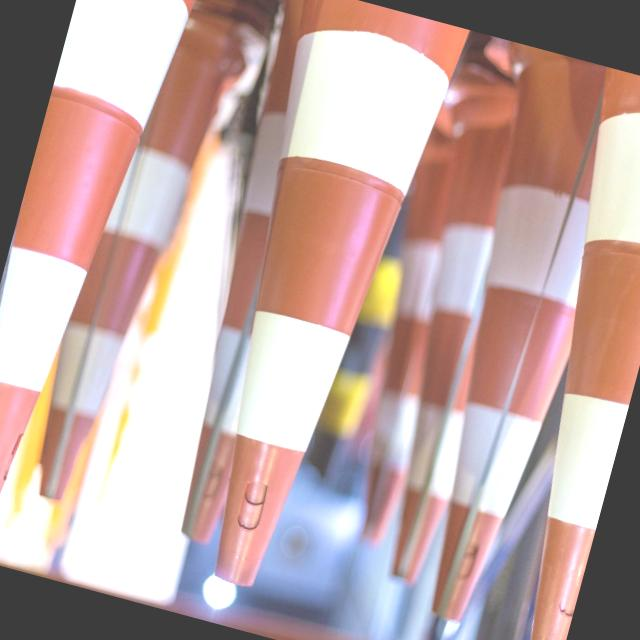cone: (148, 0, 454, 612), (434, 67, 640, 640), (0, 0, 186, 558)
